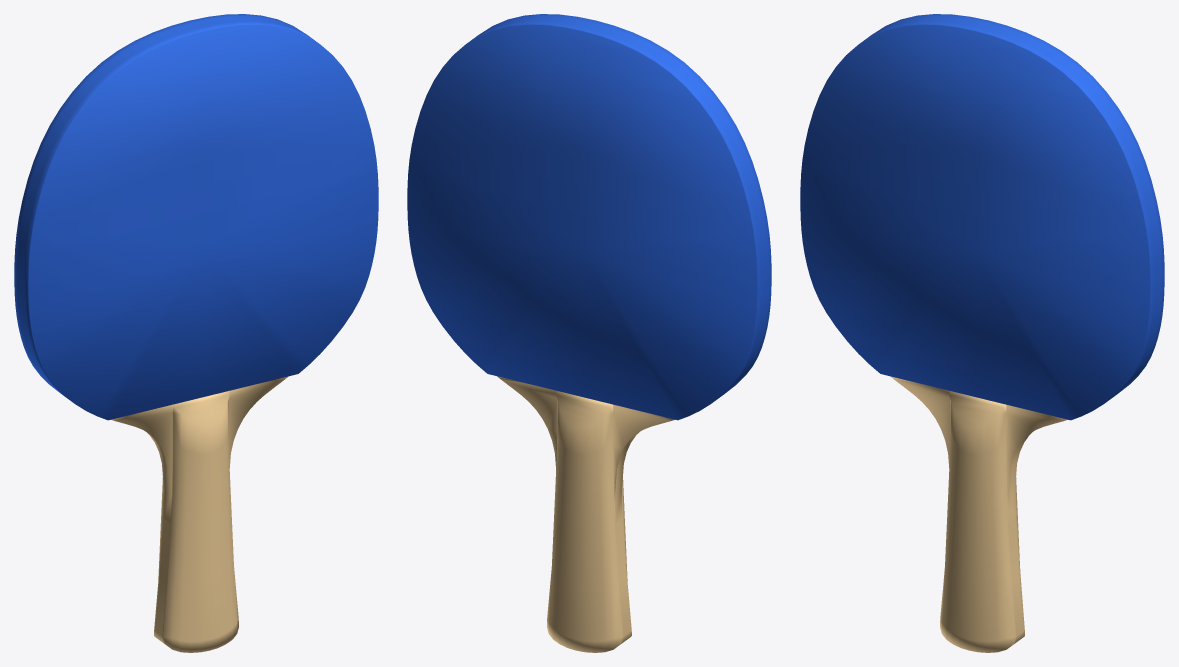
File: _PingPongMasters_bluepaddle.fbx
The picture shows the model from 3 angles, left to right: view 1: azimuth 30°, elevation 25°; view 2: azimuth 150°, elevation 25°; view 3: azimuth 330°, elevation 25°; orthographic projection.
Parts seen in each view (by area): view 1: bluepaddle; view 2: bluepaddle; view 3: bluepaddle.
Boxes of the visible parts, x1,y1,x2,y2 form: bluepaddle: [14, 14, 378, 652]; bluepaddle: [407, 14, 771, 652]; bluepaddle: [800, 14, 1164, 652].
Size of the model in its own units: 0.0741 by 0.0101 by 0.1242.
2 materials, 1 textured.
